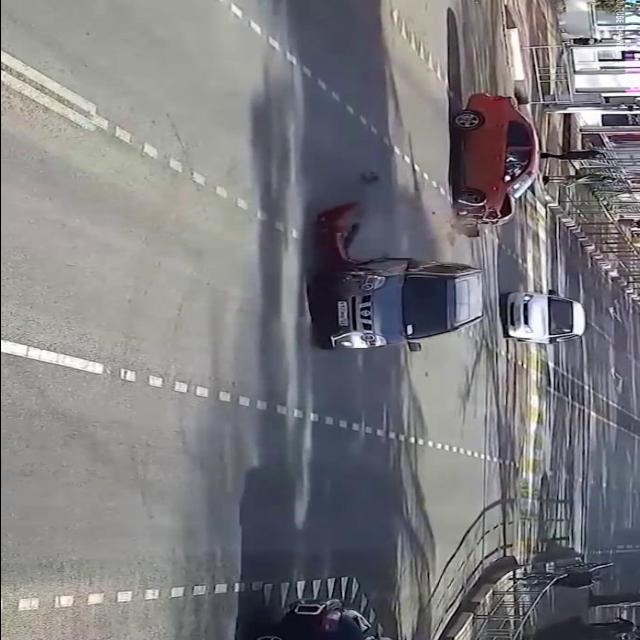accident: (304, 195, 500, 357), (448, 86, 554, 242)
